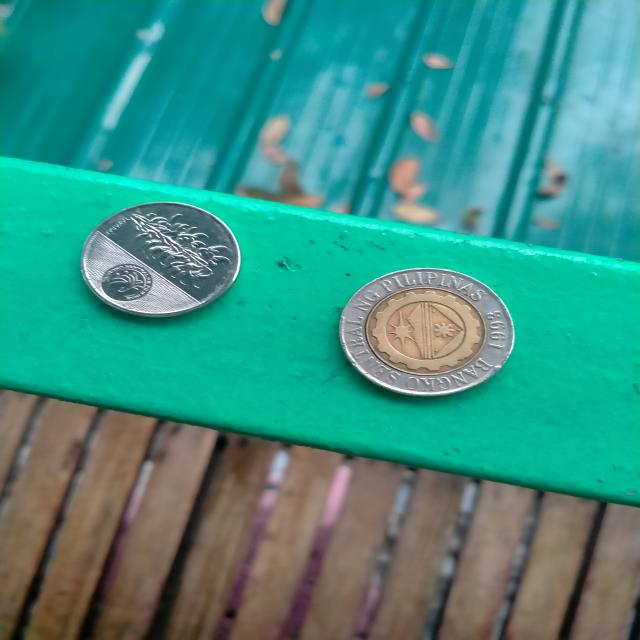10_Old_Back: (342, 266, 516, 399)
5_New_Back: (122, 209, 234, 288)
